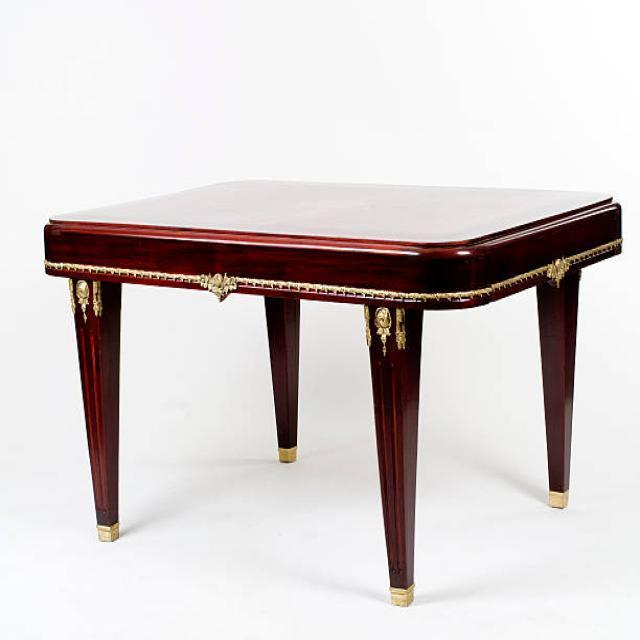table: (41, 178, 624, 608)
